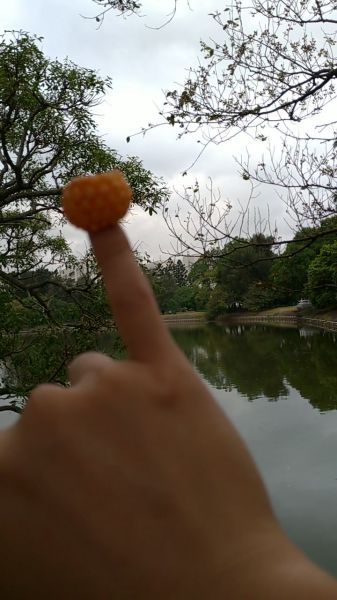eggs: (60, 171, 133, 229)
